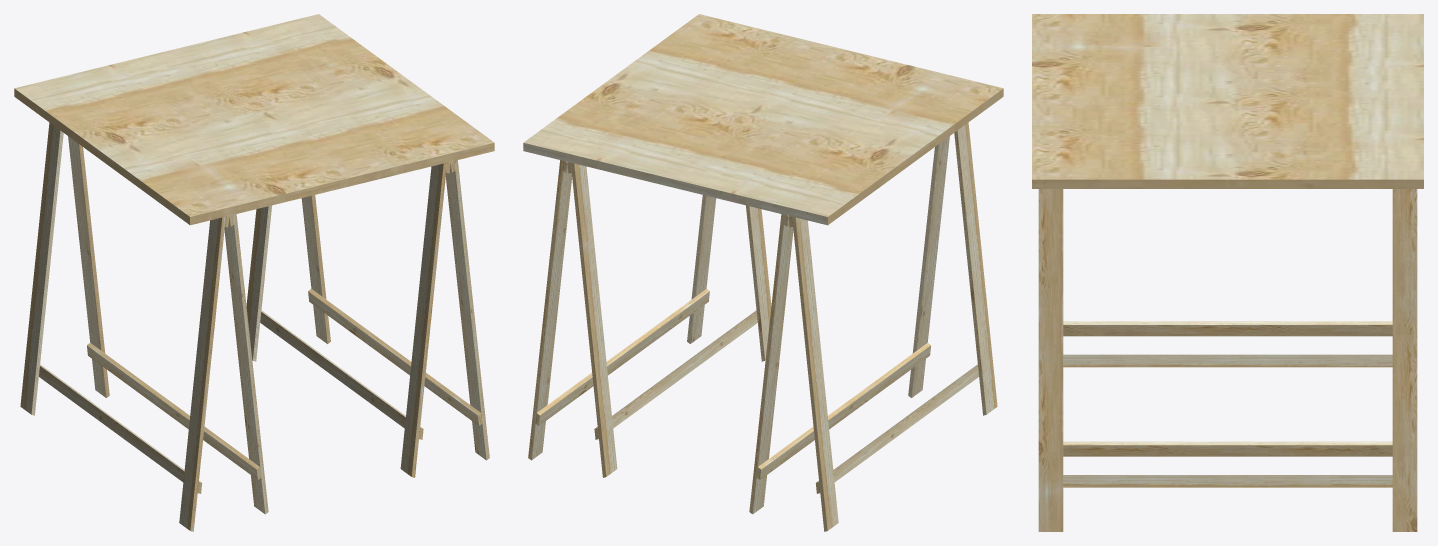
File: sh-scopia-table-on-trestles.glb
The picture shows the model from 3 angles, left to right: view 1: azimuth 30°, elevation 25°; view 2: azimuth 150°, elevation 25°; view 3: azimuth 270°, elevation 25°; orthographic projection. The views are drawn at different scales.
Parts seen in each view (by area): view 1: rightTrestle_Cube.002; view 2: rightTrestle_Cube.002; view 3: rightTrestle_Cube.002.
Boxes of the visible parts, bbox=[...] form: rightTrestle_Cube.002: bbox=[14, 14, 494, 531]; rightTrestle_Cube.002: bbox=[523, 14, 1003, 531]; rightTrestle_Cube.002: bbox=[1032, 14, 1423, 531].
Bounding box in the file's own units: 1 × 1 × 1.
1 material, 1 textured.
